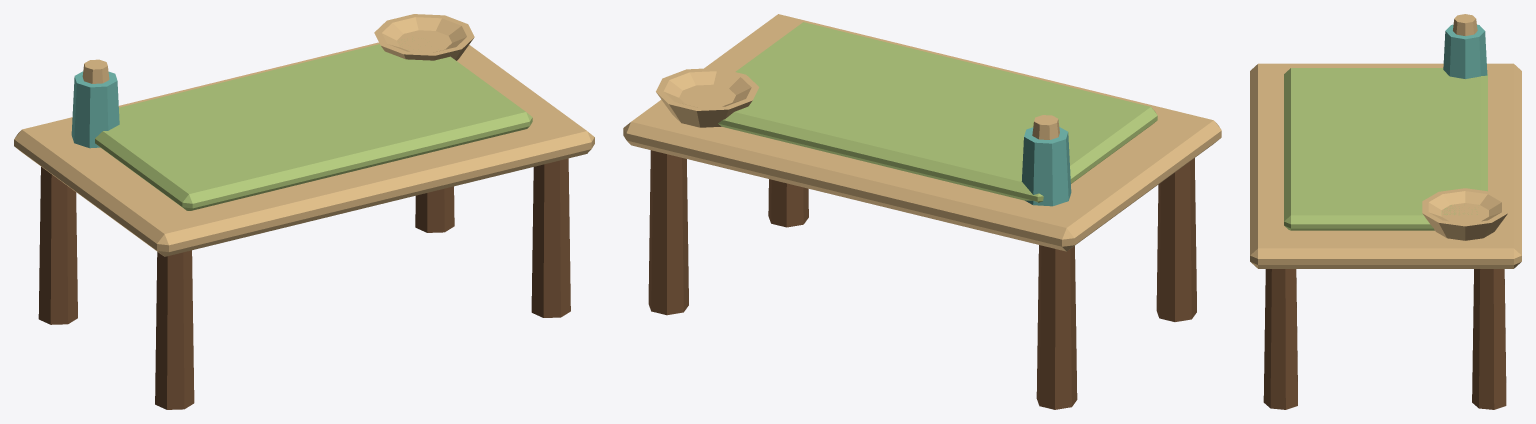
The model's file is CC_CareStation.fbx.
3 renders of one model, left to right at view 1: azimuth 30°, elevation 25°; view 2: azimuth 150°, elevation 25°; view 3: azimuth 270°, elevation 25°, orthographic. The views are drawn at different scales.
Parts seen in each view (by area): view 1: Soft pad, Top.001, Leg.056, Leg.058, Leg.057, Feed bowl, Medicine jar.015, Leg.059, Cork.015; view 2: Soft pad, Top.001, Leg.057, Leg.059, Leg.056, Feed bowl, Medicine jar.015, Leg.058, Cork.015; view 3: Soft pad, Top.001, Leg.059, Leg.058, Feed bowl, Medicine jar.015, Cork.015.
Boxes of the visible parts, x1,y1,x2,y2 form: Soft pad: (95,39,532,210); Top.001: (14,42,594,256); Leg.056: (155,250,194,409); Leg.058: (531,158,570,317); Leg.057: (38,167,77,324); Feed bowl: (374,14,474,60); Medicine jar.015: (71,71,119,148); Leg.059: (415,186,454,232); Cork.015: (82,59,109,83); Soft pad: (718,22,1157,202); Top.001: (623,14,1221,251); Leg.057: (1036,245,1077,409); Leg.059: (648,150,688,315); Leg.056: (1156,158,1196,321); Feed bowl: (656,68,759,127); Medicine jar.015: (1021,127,1071,206); Leg.058: (768,179,808,227); Cork.015: (1032,115,1059,139); Soft pad: (1284,68,1487,230); Top.001: (1250,63,1521,268); Leg.059: (1472,269,1506,409); Leg.058: (1263,269,1297,409); Feed bowl: (1422,188,1508,240); Medicine jar.015: (1443,24,1487,78); Cork.015: (1453,14,1477,35).
Size of the model in its own units: 2 by 1.12 by 1.2.
